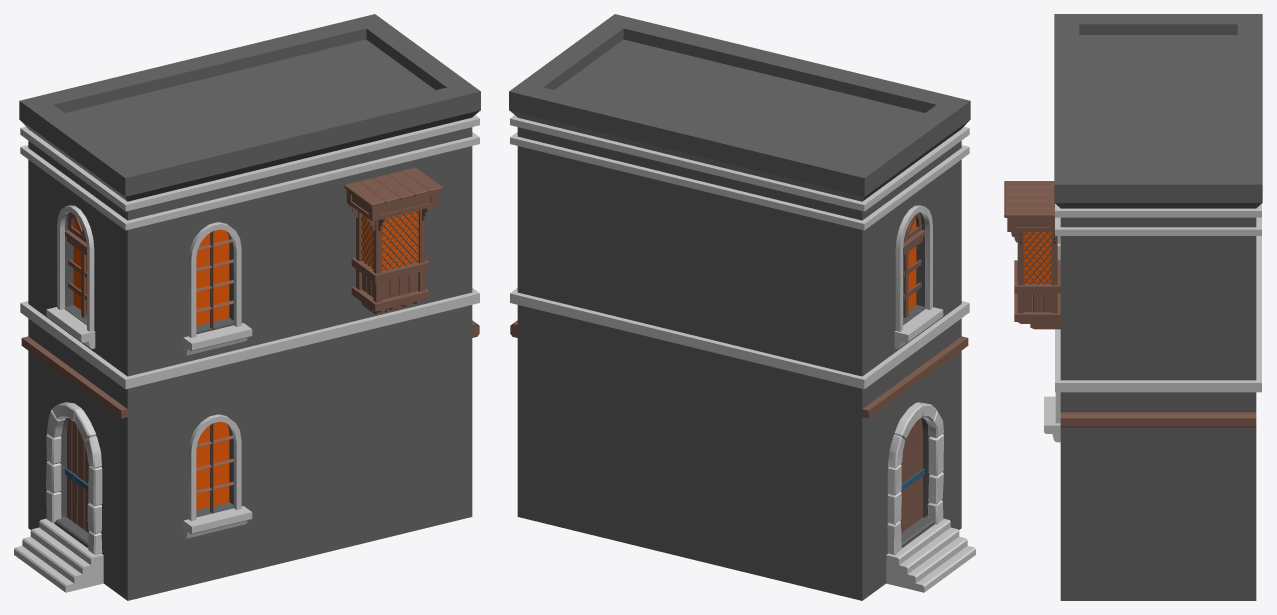
The model's file is civilian_house_25.FBX.
The picture shows the model from 3 angles, left to right: view 1: azimuth 30°, elevation 25°; view 2: azimuth 150°, elevation 25°; view 3: azimuth 270°, elevation 25°; orthographic projection.
Parts seen in each view (by area): view 1: civilian_house_25_LOD0; view 2: civilian_house_25_LOD0; view 3: civilian_house_25_LOD0.
Part boxes in pixels (x1=…): civilian_house_25_LOD0: x1=14, y1=14, x2=480, y2=600; civilian_house_25_LOD0: x1=509, y1=14, x2=975, y2=600; civilian_house_25_LOD0: x1=1004, y1=14, x2=1262, y2=600.
Size of what is drawn, in the model's own units: 622 by 650 by 363.
